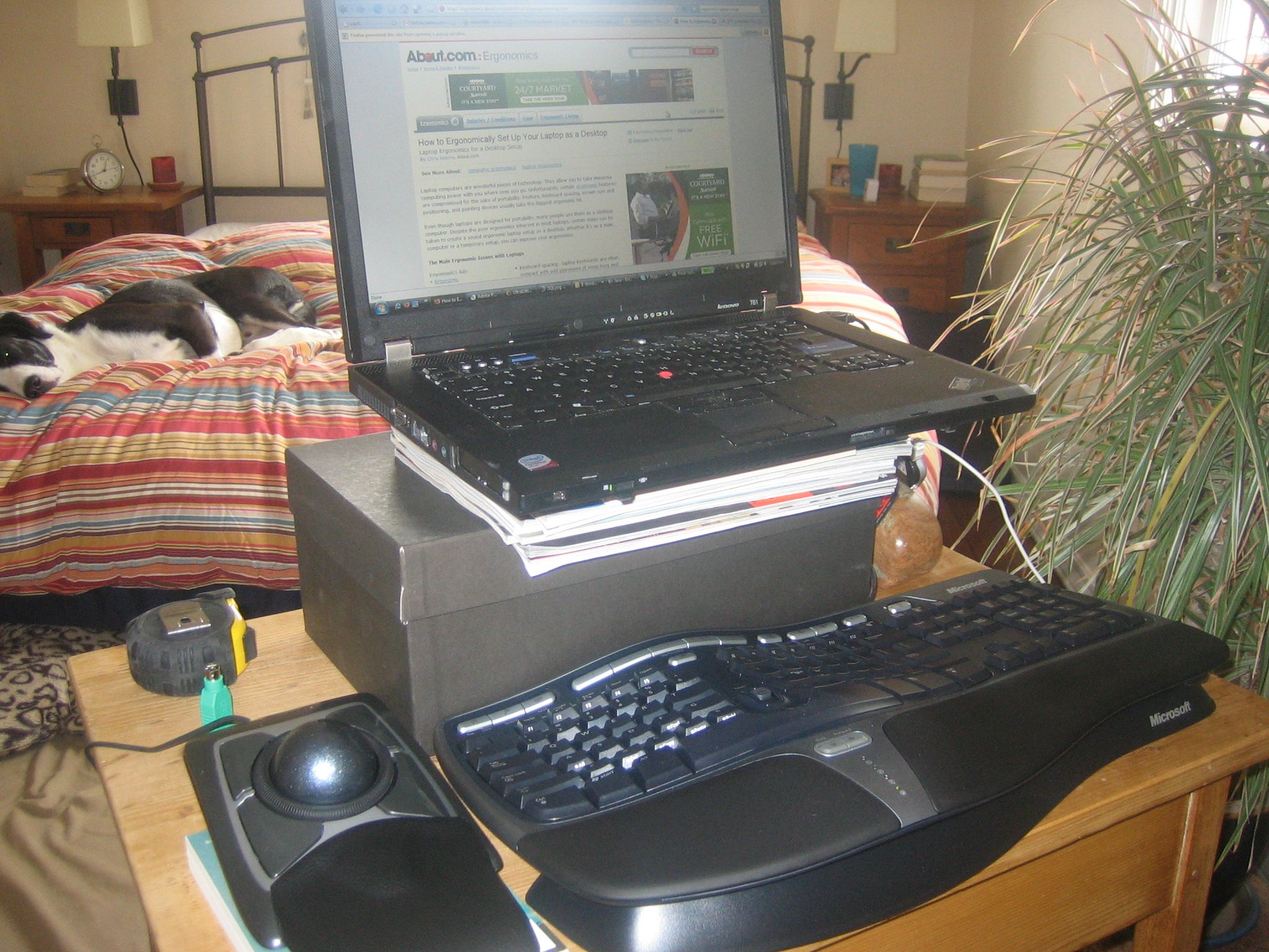not a gesture sign: (307, 0, 1022, 514)
